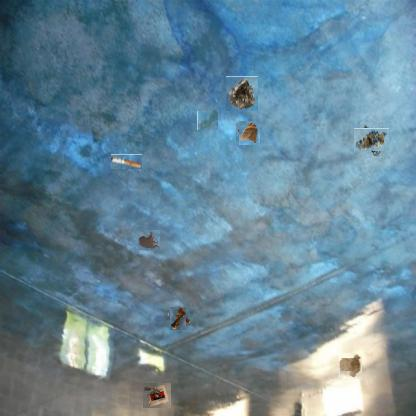dirty: (226, 76, 258, 111), (357, 125, 386, 155), (143, 382, 171, 409), (339, 353, 362, 379), (237, 122, 259, 144), (110, 154, 142, 169), (168, 308, 188, 328)
liquid: (197, 110, 218, 131), (138, 230, 160, 250)
